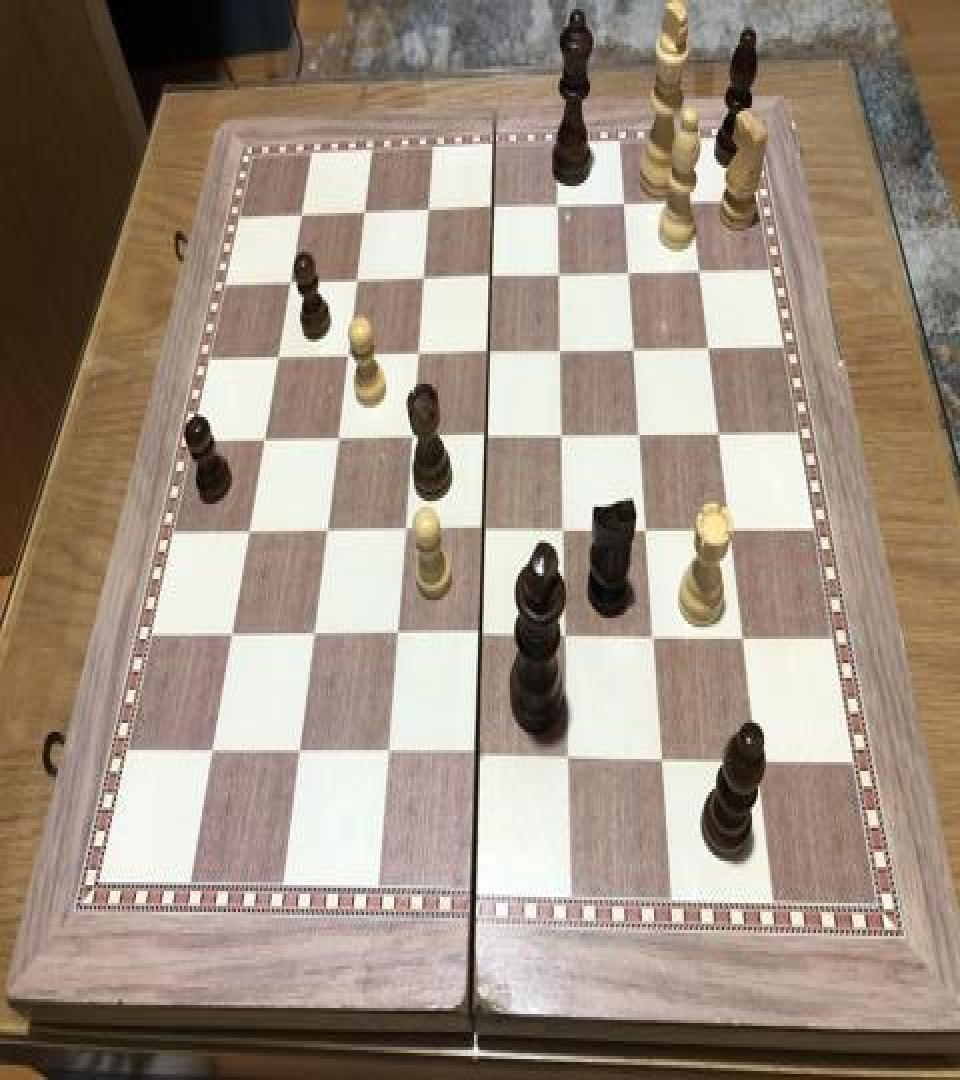xcorner: (721, 514, 745, 551), (637, 514, 661, 551), (734, 622, 758, 659), (645, 622, 669, 659), (655, 742, 679, 779), (468, 739, 492, 776), (612, 189, 636, 225), (545, 190, 569, 226), (478, 192, 502, 228), (412, 194, 436, 230), (347, 196, 371, 232), (282, 198, 306, 234), (688, 256, 712, 292), (617, 258, 641, 294), (477, 261, 501, 297), (408, 262, 432, 298), (339, 264, 363, 300), (272, 266, 296, 302), (698, 334, 722, 370), (623, 334, 647, 370), (549, 336, 573, 372), (475, 338, 499, 374), (403, 339, 427, 375), (331, 339, 355, 375), (260, 340, 284, 376), (709, 420, 733, 456), (630, 420, 654, 456), (551, 422, 575, 458), (474, 422, 498, 458), (398, 422, 422, 458), (322, 423, 346, 459), (247, 423, 271, 459), (554, 516, 578, 552), (472, 516, 496, 552), (392, 516, 416, 552), (312, 516, 336, 552), (233, 516, 257, 552), (557, 621, 581, 657), (471, 621, 495, 657), (385, 621, 409, 657), (300, 620, 324, 656), (217, 620, 241, 656), (750, 744, 774, 780), (561, 741, 585, 777), (377, 738, 401, 774), (287, 736, 311, 772), (198, 736, 222, 772), (679, 188, 703, 223), (547, 260, 571, 295)
